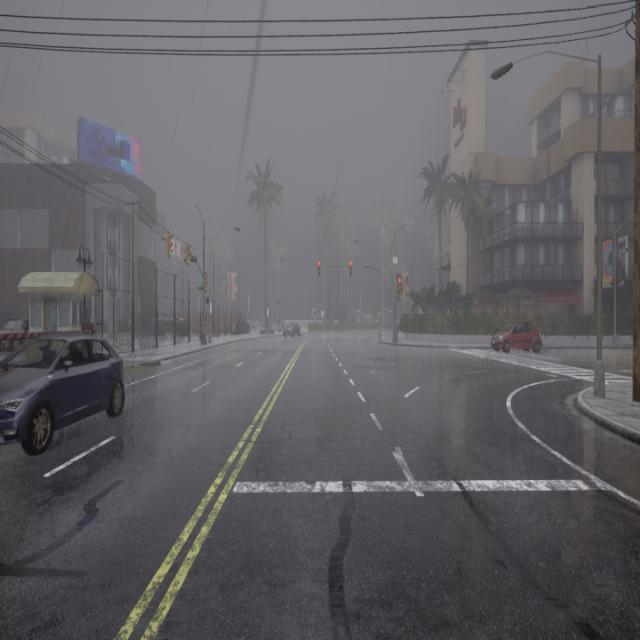6: (318, 260, 321, 267), (398, 278, 401, 283), (350, 260, 352, 266)
9: (167, 230, 173, 258), (186, 242, 192, 266), (317, 259, 322, 278), (205, 272, 209, 294), (349, 259, 353, 278), (398, 277, 402, 294)
bien_hieu_lenh: (169, 250, 172, 257), (205, 286, 208, 291), (187, 260, 190, 264)
